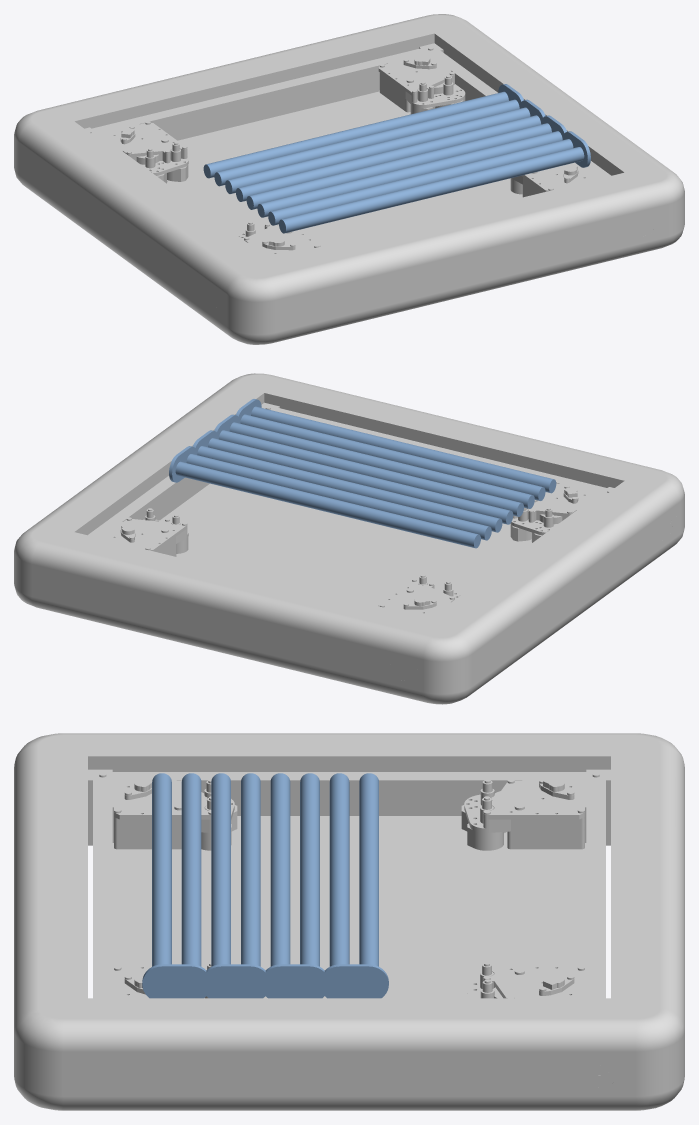
The picture shows the model from 3 angles, top to bottom: view 1: azimuth 30°, elevation 25°; view 2: azimuth 150°, elevation 25°; view 3: azimuth 270°, elevation 25°; orthographic projection. The views are drawn at different scales.
Parts seen in each view (by area): view 1: id32, Horizontal Roller (×4); view 2: id32, Horizontal Roller (×4); view 3: id32, Horizontal Roller (×4).
Part boxes in pixels (left/top/right/bottom): id32: left=14, top=14, right=684, bottom=344; Horizontal Roller (×4): left=203, top=84, right=590, bottom=233; id32: left=14, top=373, right=684, bottom=704; Horizontal Roller (×4): left=169, top=399, right=556, bottom=548; id32: left=14, top=733, right=684, bottom=1110; Horizontal Roller (×4): left=142, top=773, right=388, bottom=998.
Bounding box in the file's own units: 0.9271 × 0.2032 × 0.8636.
